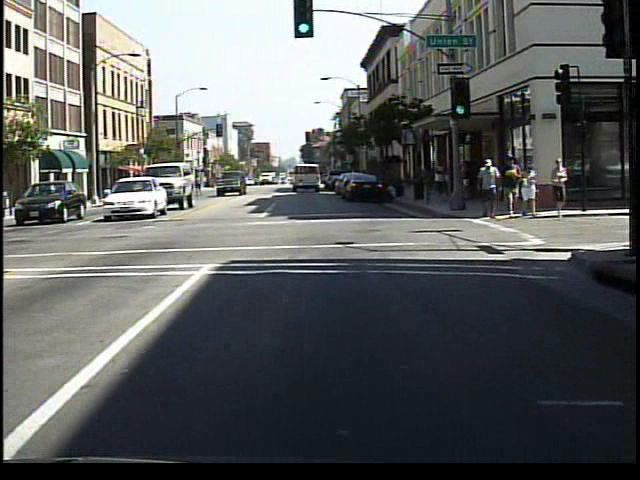person: (475, 156, 503, 223), (548, 156, 574, 223), (499, 152, 524, 218), (521, 157, 542, 222), (432, 157, 452, 206), (192, 172, 209, 200)
